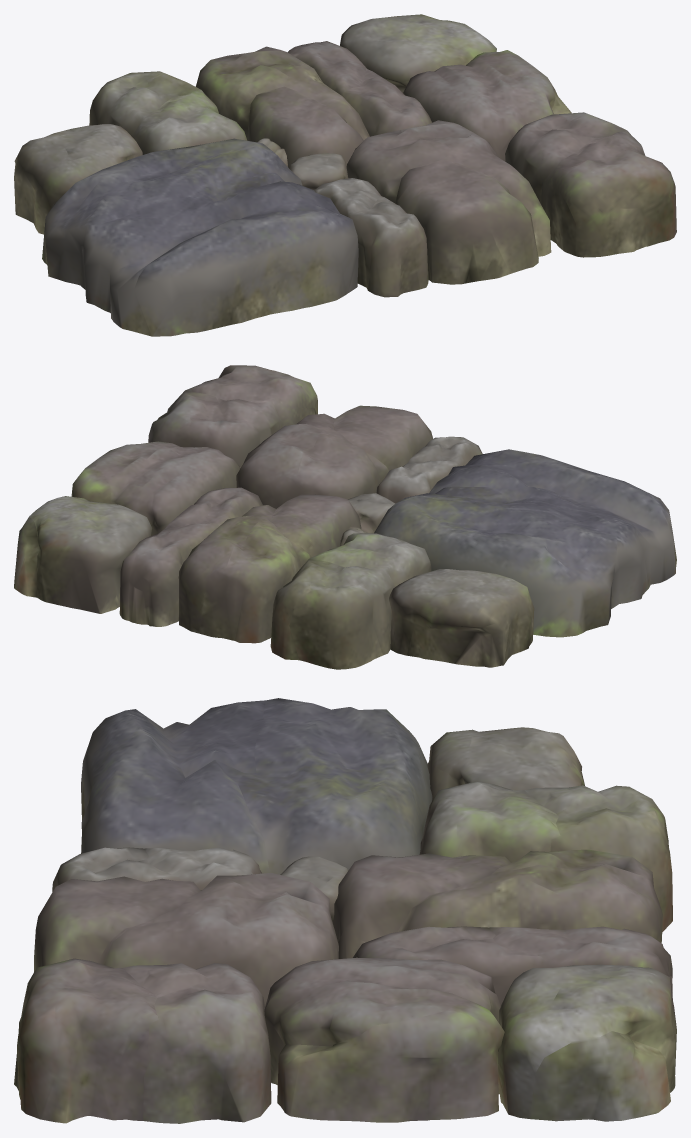
File: SM_Cobble_Patch_B.fbx
3 views of the same model, one above another, from view 1: azimuth 30°, elevation 25°; view 2: azimuth 150°, elevation 25°; view 3: azimuth 270°, elevation 25° (orthographic). The views are drawn at different scales.
Visible parts, largest first — view 1: SM_Cobble_Patch_B_LOD0; view 2: SM_Cobble_Patch_B_LOD0; view 3: SM_Cobble_Patch_B_LOD0.
Boxes of the visible parts, <box> form: SM_Cobble_Patch_B_LOD0: <box>14,14,676,336</box>; SM_Cobble_Patch_B_LOD0: <box>14,365,676,669</box>; SM_Cobble_Patch_B_LOD0: <box>14,698,676,1123</box>.
Bounding box in the file's own units: 154 × 124 × 23.86.
